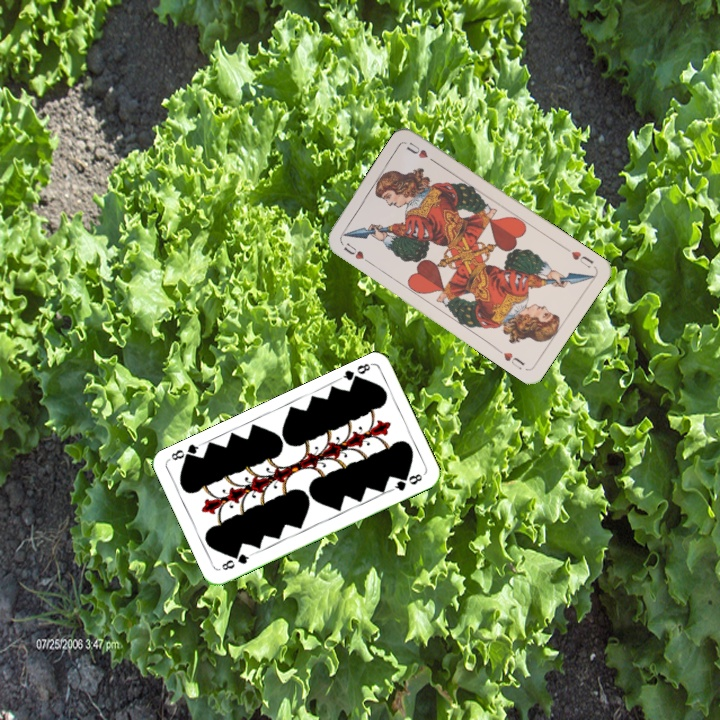G8: (336, 359, 374, 387), (217, 550, 254, 573)
HU: (561, 243, 596, 270), (340, 239, 373, 266)
